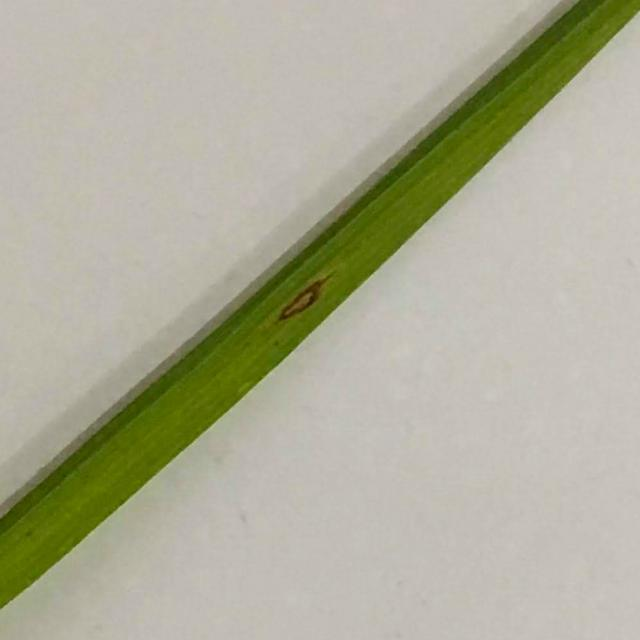Blast: (278, 272, 330, 318)
